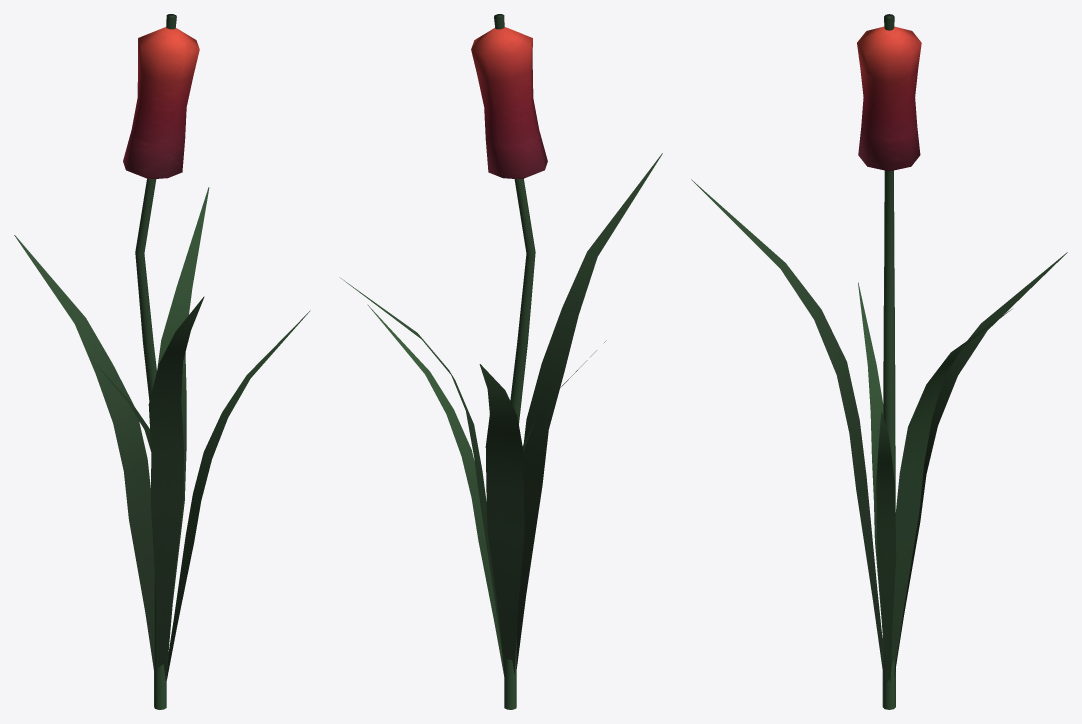
File: cattail_4.fbx
3 renders of one model, left to right at view 1: azimuth 30°, elevation 25°; view 2: azimuth 150°, elevation 25°; view 3: azimuth 270°, elevation 25°, orthographic.
Parts seen in each view (by area): view 1: cattail_4; view 2: cattail_4; view 3: cattail_4.
Boxes of the visible parts, x1=… form: cattail_4: x1=14, y1=14, x2=310, y2=709; cattail_4: x1=339, y1=14, x2=662, y2=709; cattail_4: x1=691, y1=14, x2=1067, y2=709.
Size of the model in its own units: 73.11 by 209 by 102.
